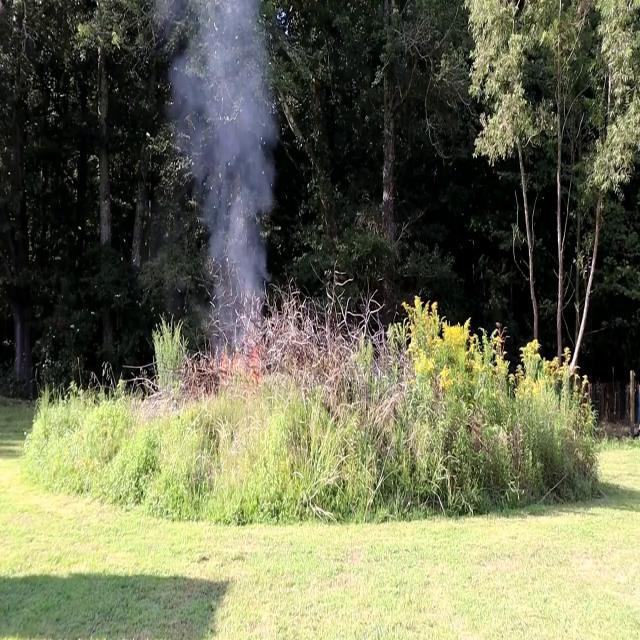Smoke: (173, 1, 281, 340)
